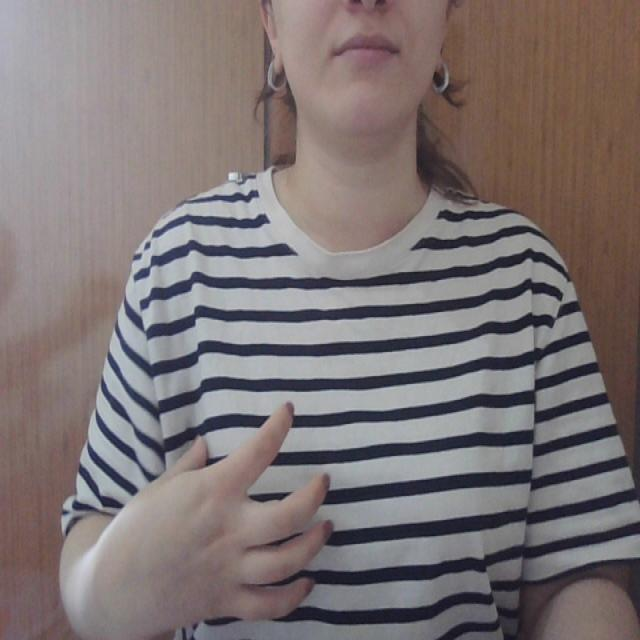Anne: (124, 392, 541, 640)
